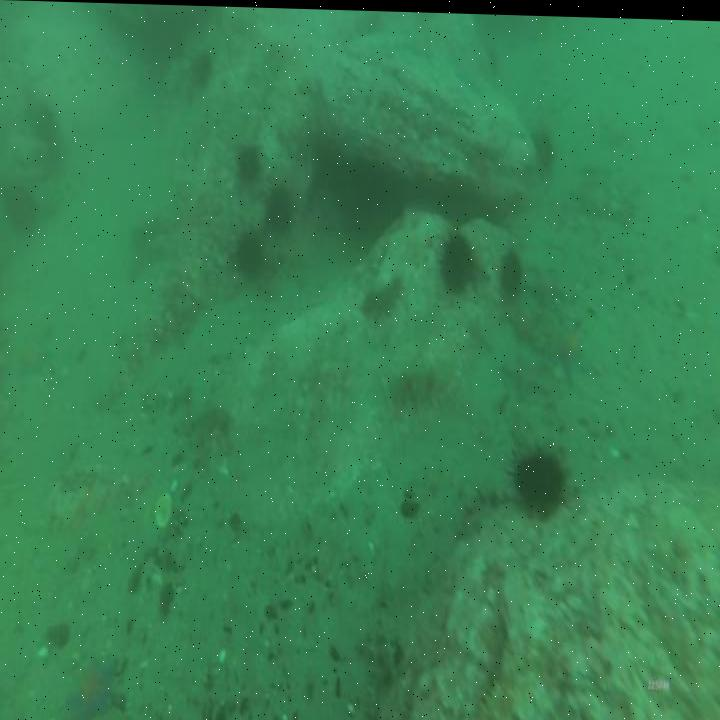echinus: (504, 437, 572, 518), (0, 174, 43, 241), (29, 100, 63, 165), (190, 43, 213, 90)
holothurian: (386, 361, 442, 412), (358, 268, 407, 322)
starfish: (62, 651, 120, 720), (537, 320, 589, 385), (438, 224, 480, 298), (499, 349, 553, 404), (521, 263, 570, 312), (501, 294, 547, 343), (262, 182, 296, 240), (233, 221, 266, 280), (496, 246, 524, 304), (234, 137, 265, 188), (530, 119, 557, 169)
